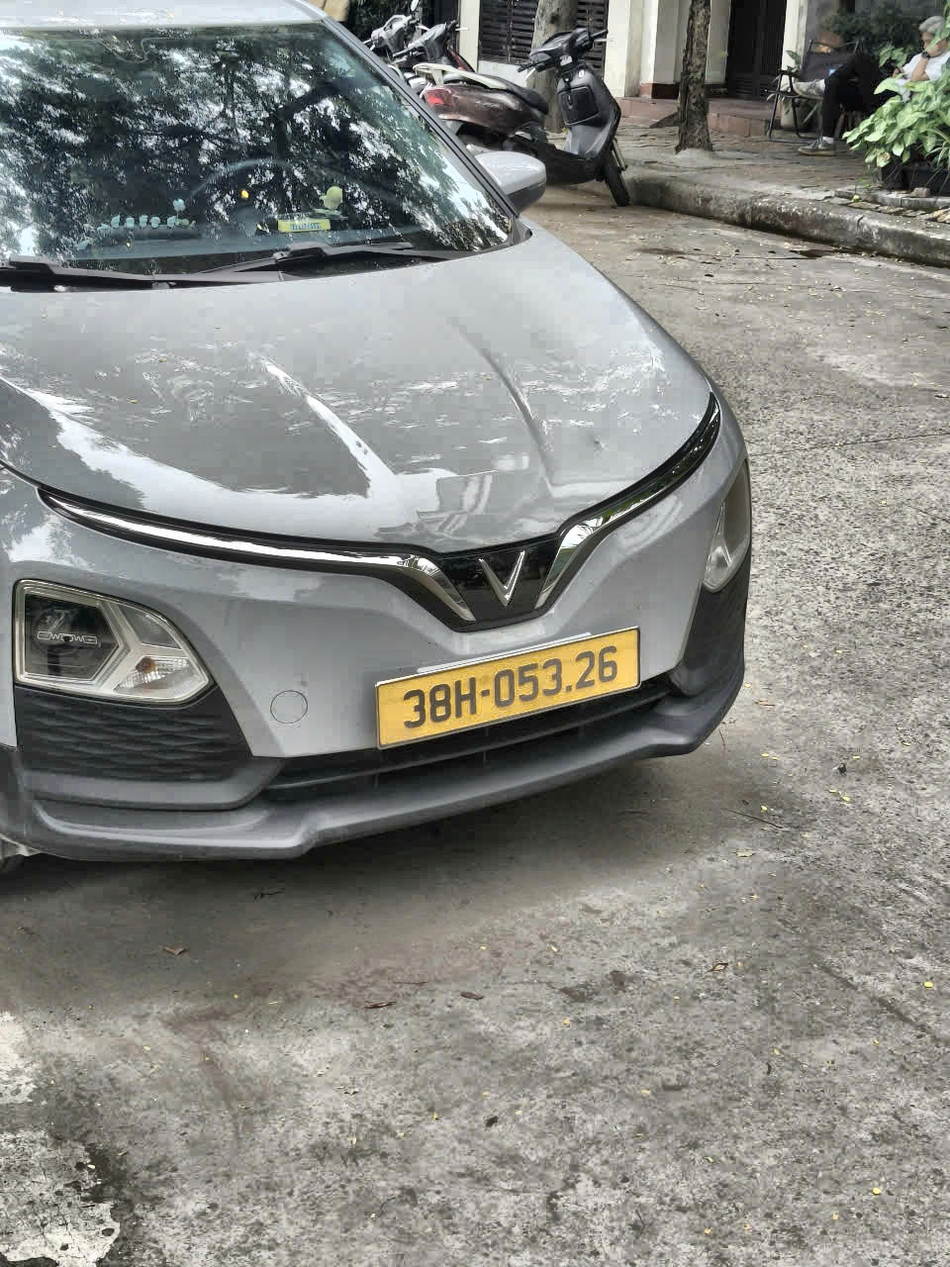plate: (256, 246, 421, 278)
